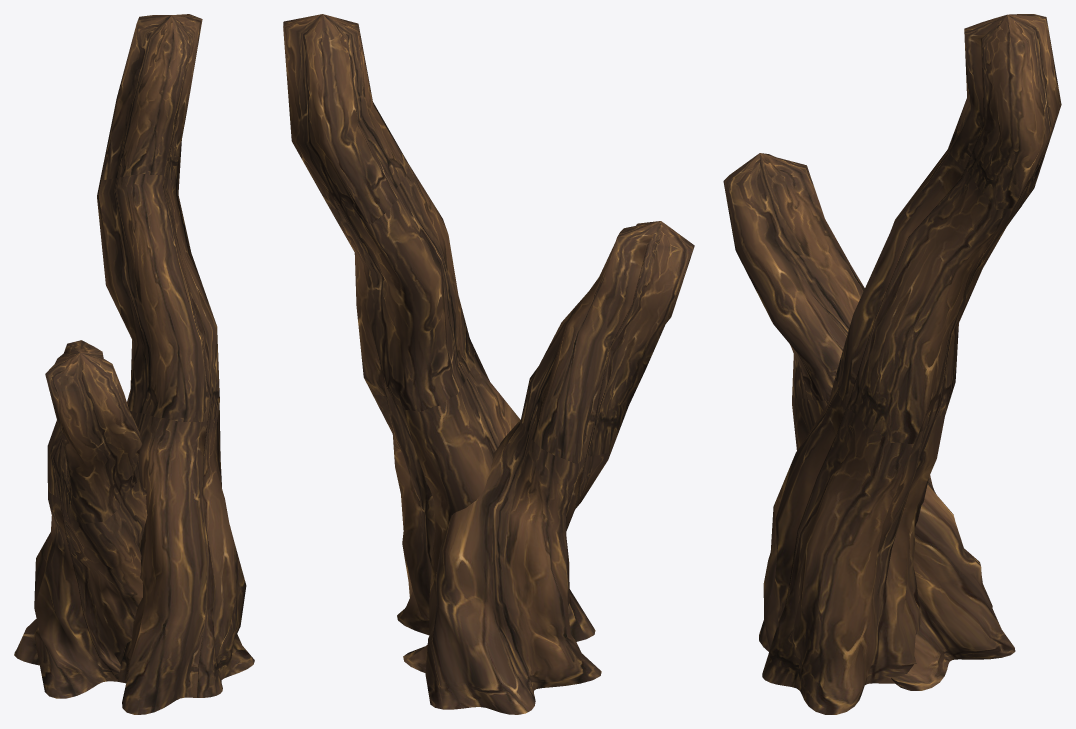
The model's file is FantasyTreeTrunk3.fbx.
3 renders of one model, left to right at view 1: azimuth 30°, elevation 25°; view 2: azimuth 150°, elevation 25°; view 3: azimuth 270°, elevation 25°, orthographic. The views are drawn at different scales.
Parts seen in each view (by area): view 1: tree2_0; view 2: tree2_0; view 3: tree2_0.
Boxes of the visible parts, <box> form: tree2_0: <box>14,14,254,714</box>; tree2_0: <box>283,14,694,714</box>; tree2_0: <box>723,14,1061,714</box>.
Size of the model in its own units: 101 by 220 by 96.56.
1 material, 1 textured.
